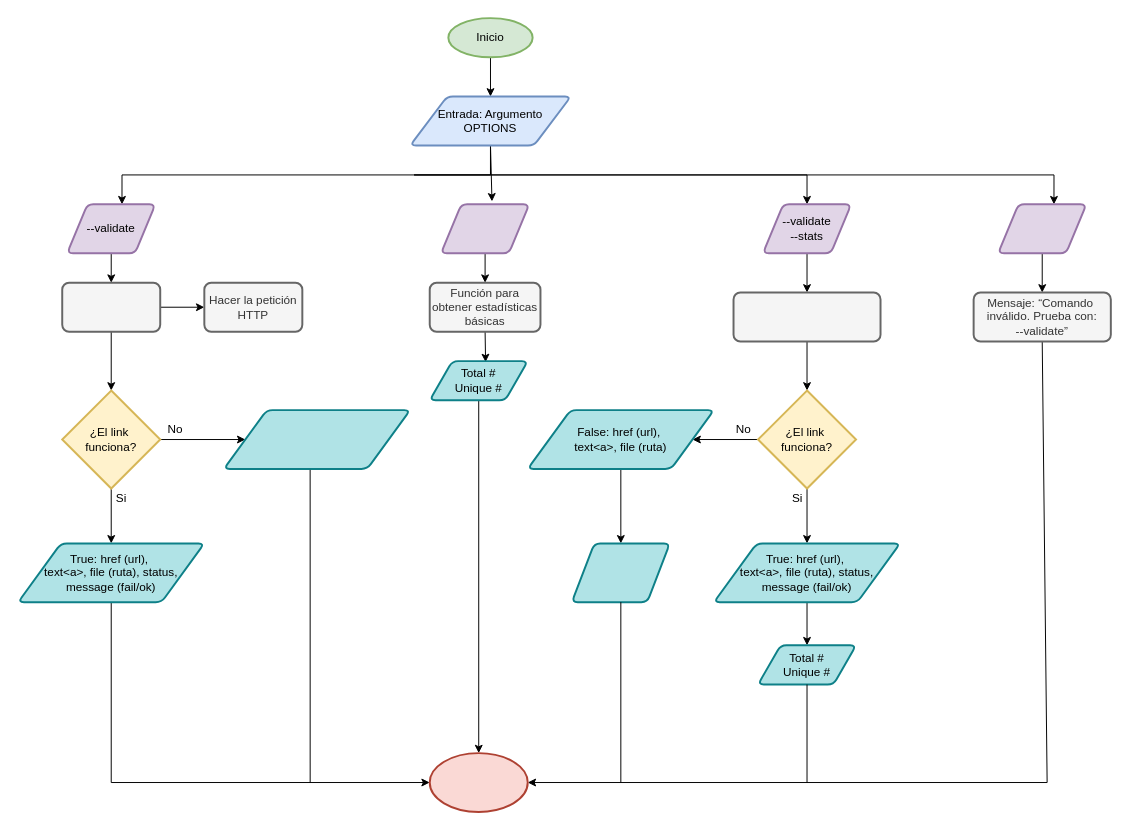
This 1128x829 diagram has some shape labels left out. Each missing label, with the centre of its shape:
--stats: the point at 485,228
Comando incorrecto: the point at 1042,228
False: href (url), text<a>, file (ruta),: the point at 316,439
Fin: the point at 478,782
Función para validar los links: the point at 111,306
Función para validar los links y obtener estadísticas básicas: the point at 806,316
Total # Unique # Broken #: the point at 620,572
